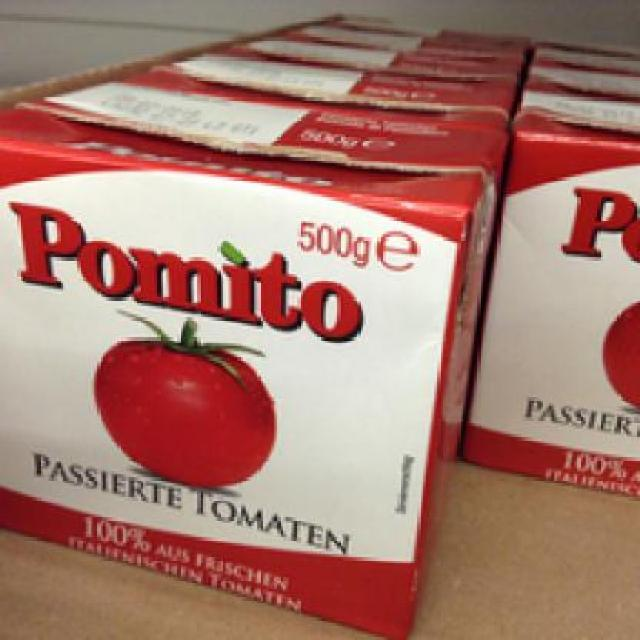Tomato Sauce: (0, 64, 512, 635)
